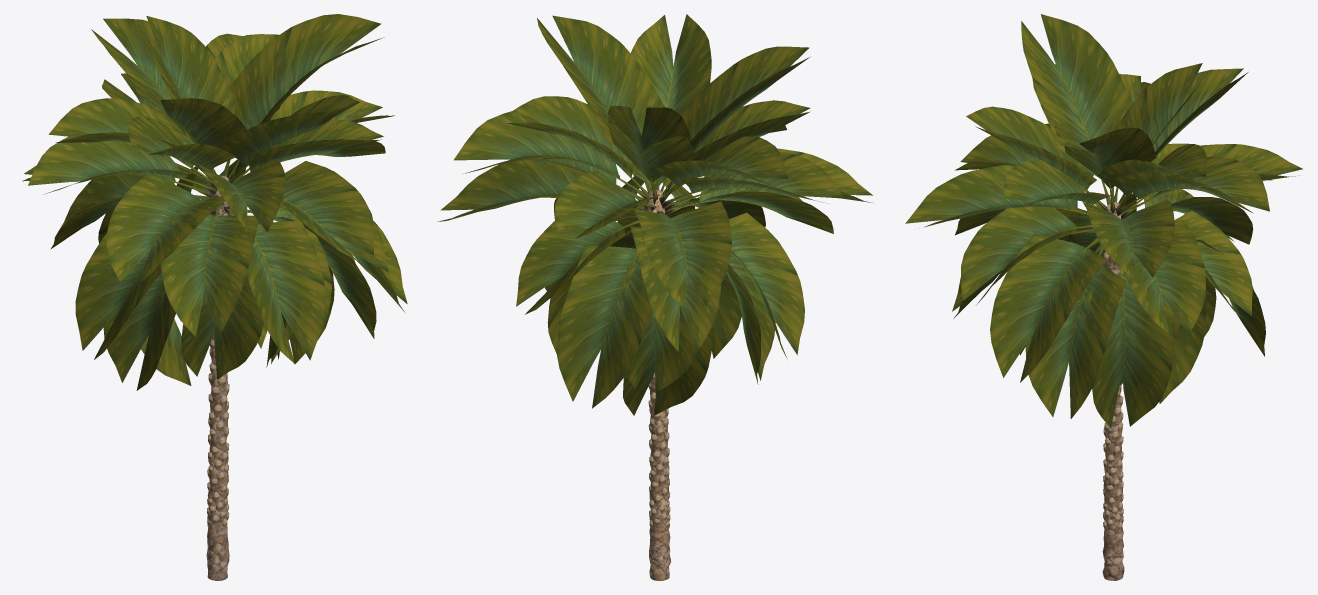
Rendered from date palm.fbx.
3 renders of one model, left to right at view 1: azimuth 30°, elevation 25°; view 2: azimuth 150°, elevation 25°; view 3: azimuth 270°, elevation 25°, orthographic. The views are drawn at different scales.
Visible parts, largest first — view 1: Tree_1, Tree_0, Tree_2, Tree_3; view 2: Tree_1, Tree_0, Tree_2, Tree_3; view 3: Tree_1, Tree_0, Tree_2, Tree_3.
Part boxes in pixels (x1,y1,x2,y2): Tree_1: (22, 14, 407, 390); Tree_0: (206, 175, 229, 580); Tree_2: (207, 330, 229, 528); Tree_3: (166, 159, 292, 226); Tree_1: (437, 14, 874, 415); Tree_0: (647, 190, 671, 580); Tree_2: (648, 373, 670, 530); Tree_3: (599, 151, 723, 265); Tree_1: (905, 14, 1302, 427); Tree_0: (1102, 202, 1124, 580); Tree_2: (1103, 251, 1123, 531); Tree_3: (1049, 179, 1167, 292).
Bounding box in the file's own units: 546 × 734 × 521.
4 materials, 4 textured.
